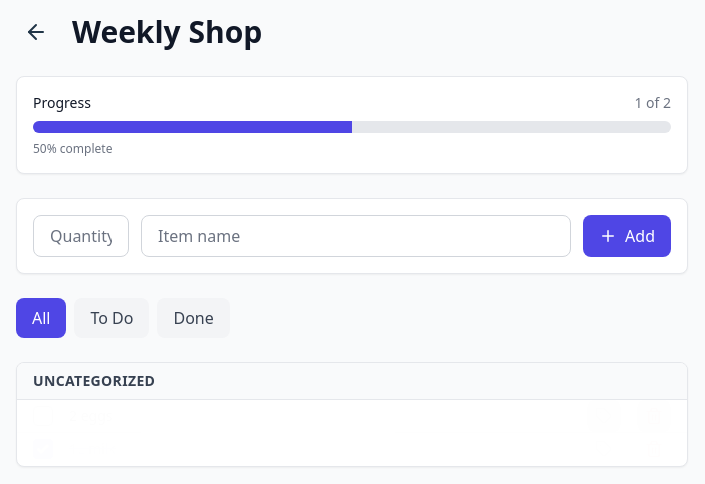
Test case: GroceryList › shows only unchecked items when To Do tab is clicked
What coordinates should you click on to do the following:
click the button "To Do"
I would click on:
 (112, 318)
Its box is [74,298,150,338].
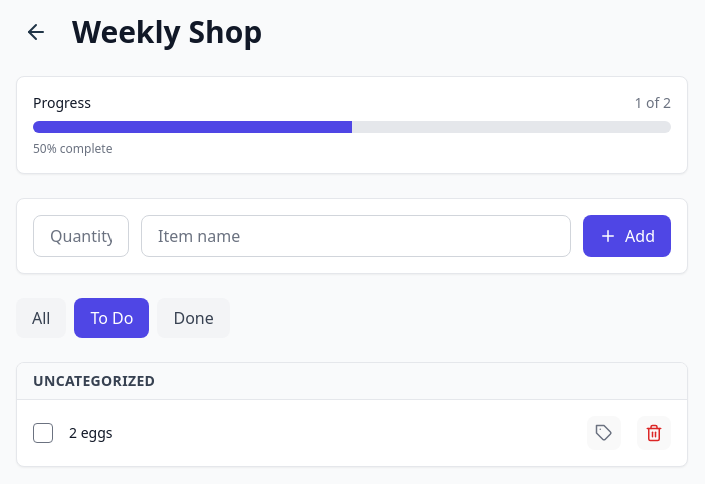
Check: the text "2 eggs" is shown, box [69,423,112,442]
Check: the text "1L milk" is gone
